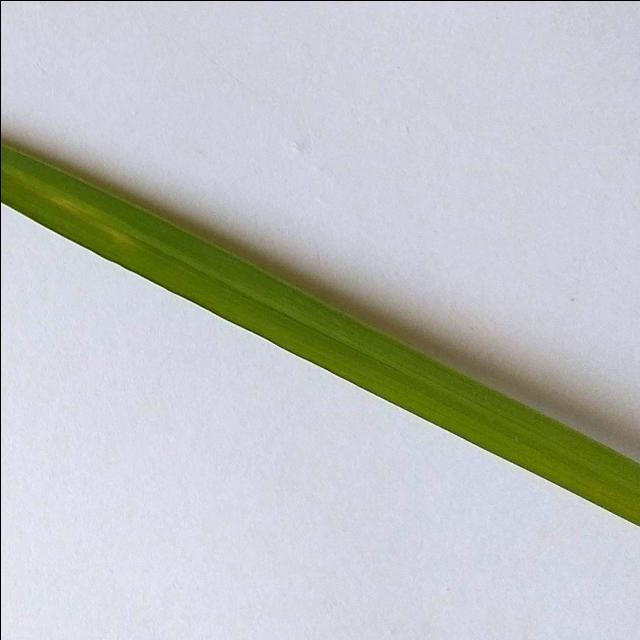healthy: (0, 85, 640, 560)
